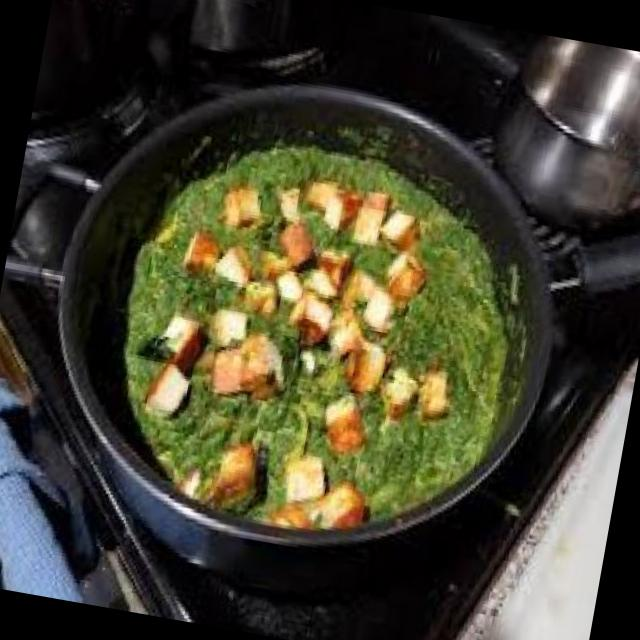palak_paneer: (96, 122, 537, 560)
